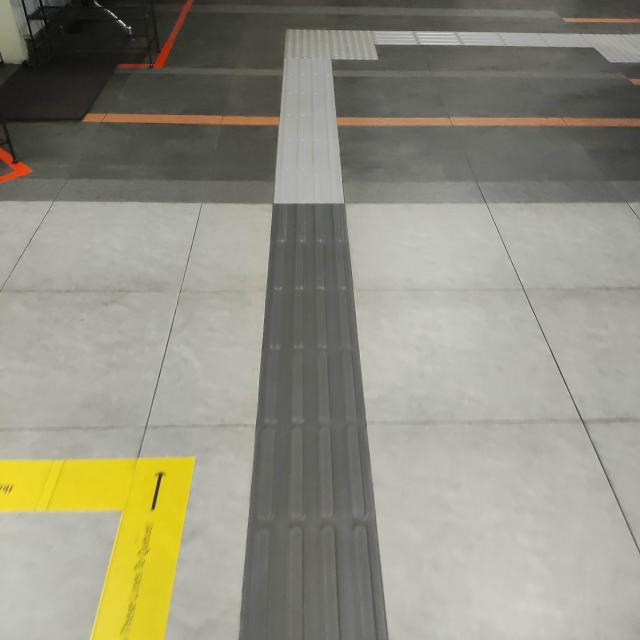kanan: (264, 22, 436, 71)
